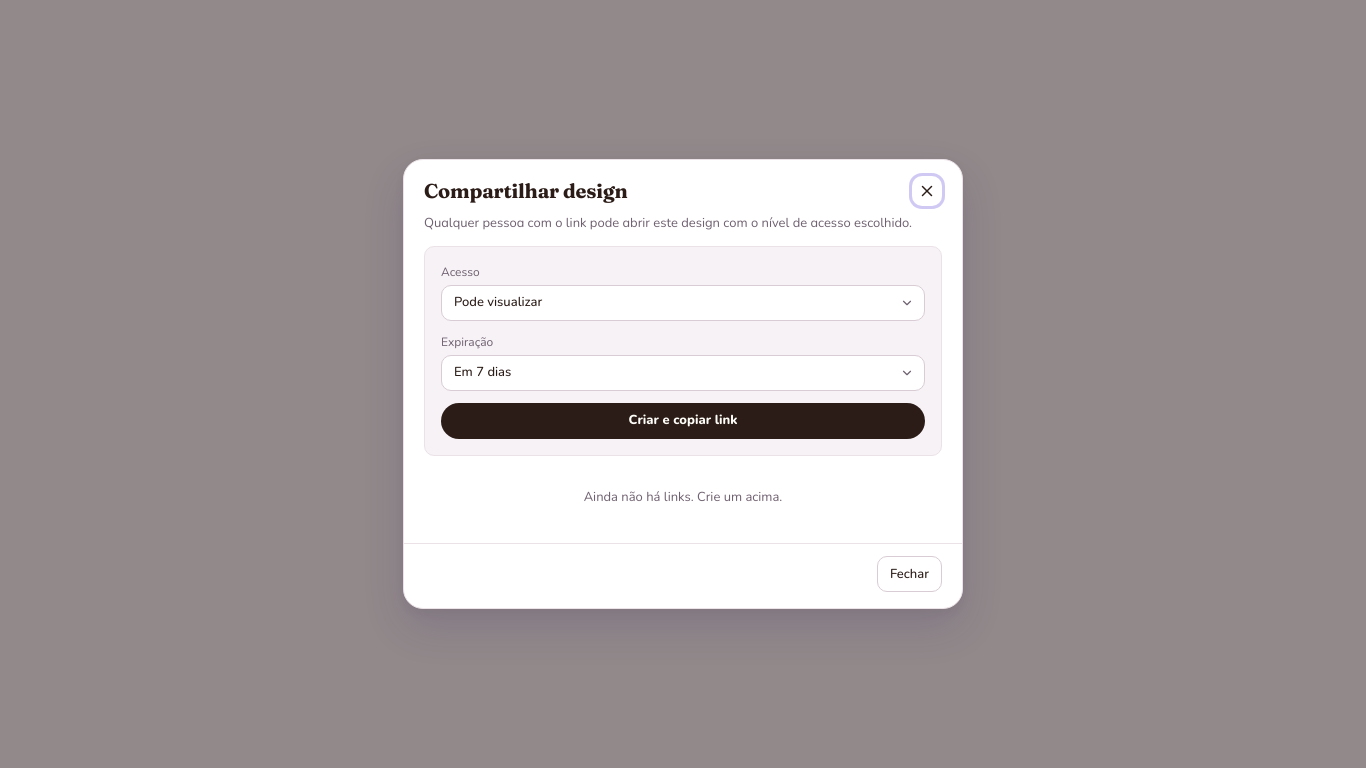
Test case: ShareDialog › allows a link without expiration
The image size is (1366, 768).
Select "Nunca" in the dropdown with test id "share-expiry". click: (683, 372)
box: [441,354,925,390]
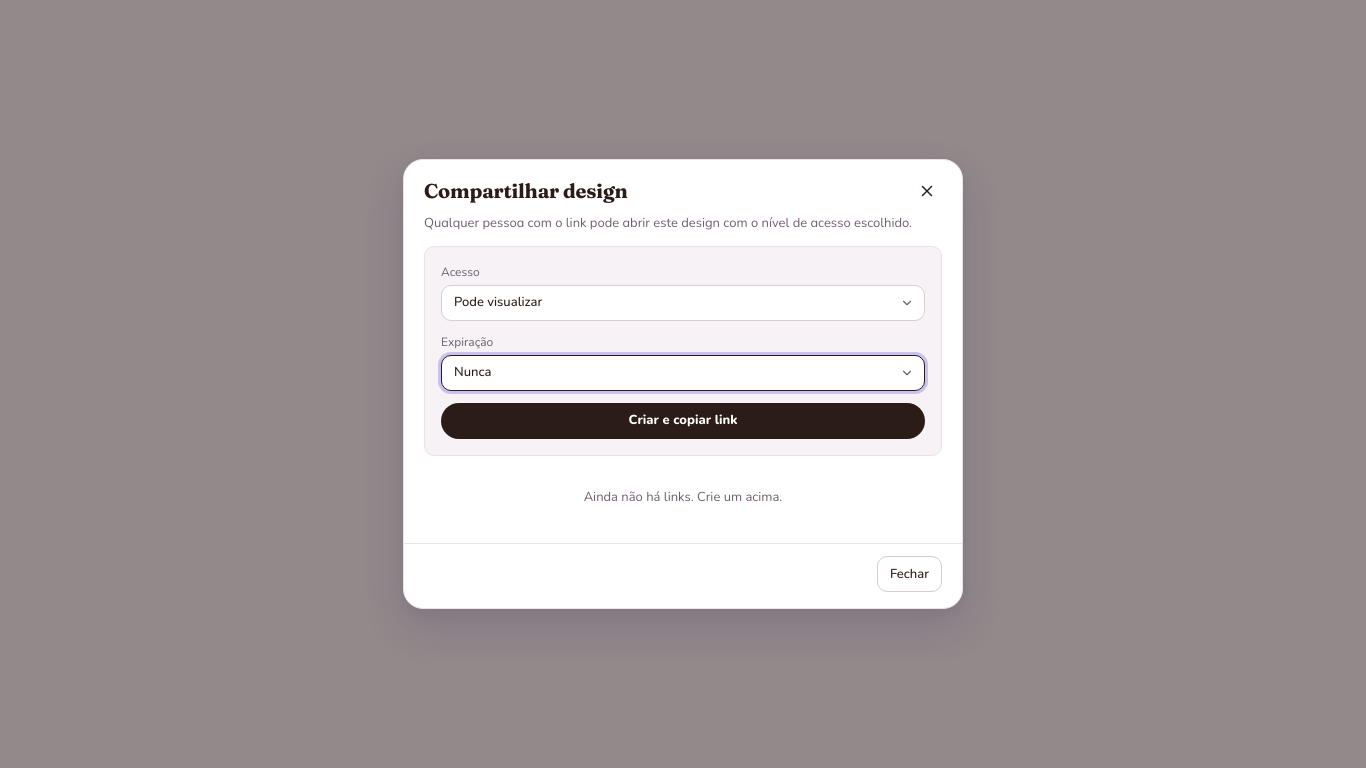
Click the button with test id "share-create". click: (683, 420)
box: [441,402,925,438]
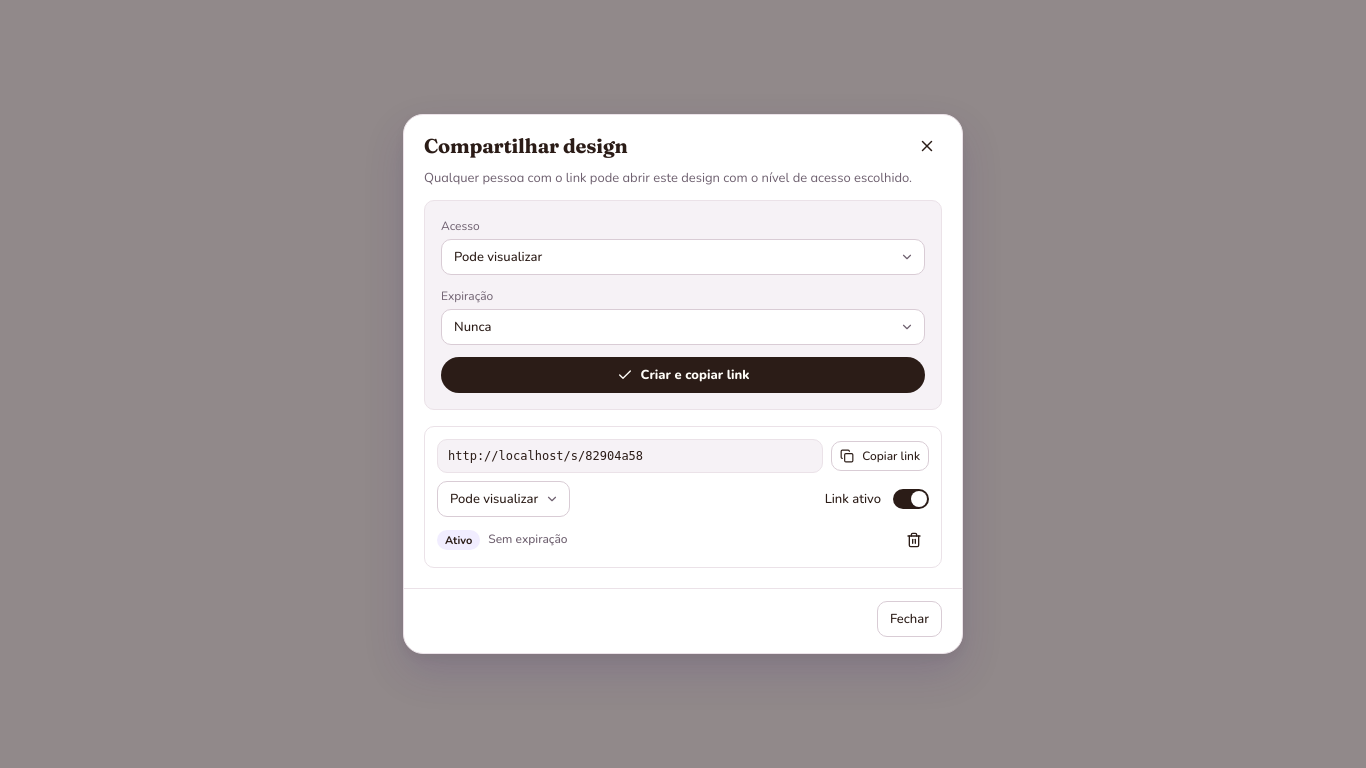
Expected: the text "Sem expiração" is shown, [488,532,568,548]
